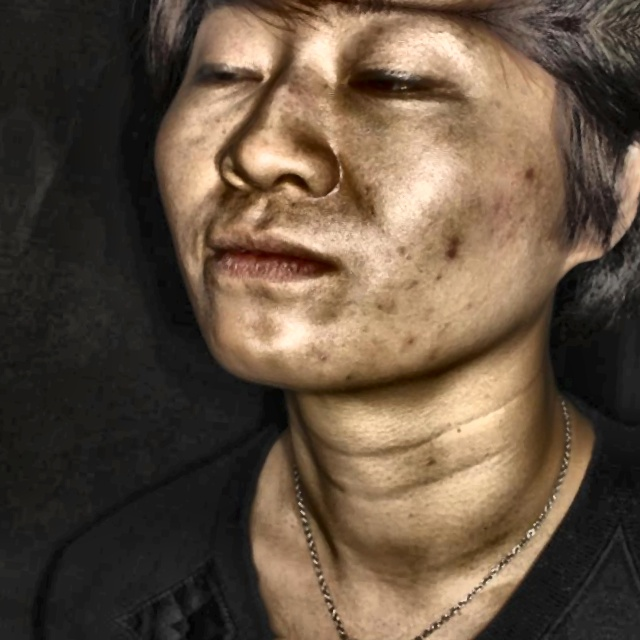comedone: (432, 229, 468, 264), (509, 159, 544, 190)
